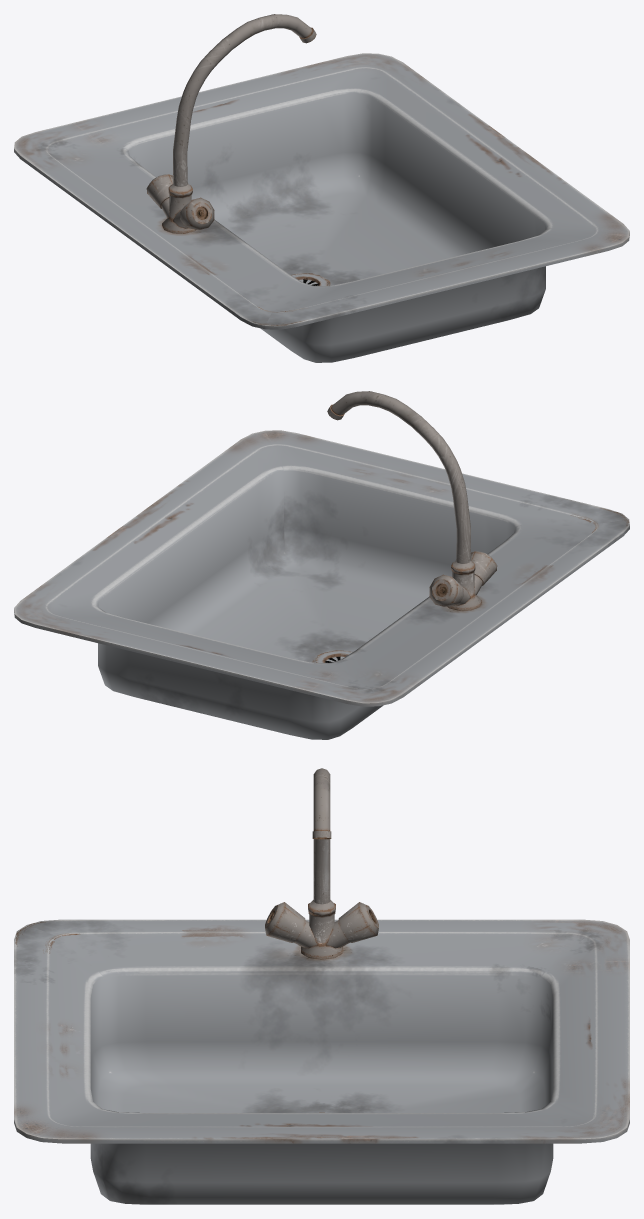
File: Sink01.FBX
The picture shows the model from 3 angles, top to bottom: view 1: azimuth 30°, elevation 25°; view 2: azimuth 150°, elevation 25°; view 3: azimuth 270°, elevation 25°; orthographic projection. The views are drawn at different scales.
Parts seen in each view (by area): view 1: Sink01_LOD0; view 2: Sink01_LOD0; view 3: Sink01_LOD0.
Boxes of the visible parts, x1,y1,x2,y2 form: Sink01_LOD0: (14, 14, 629, 362); Sink01_LOD0: (14, 391, 629, 739); Sink01_LOD0: (14, 768, 629, 1204).
Bounding box in the file's own units: 43.08 × 51 × 29.95.
